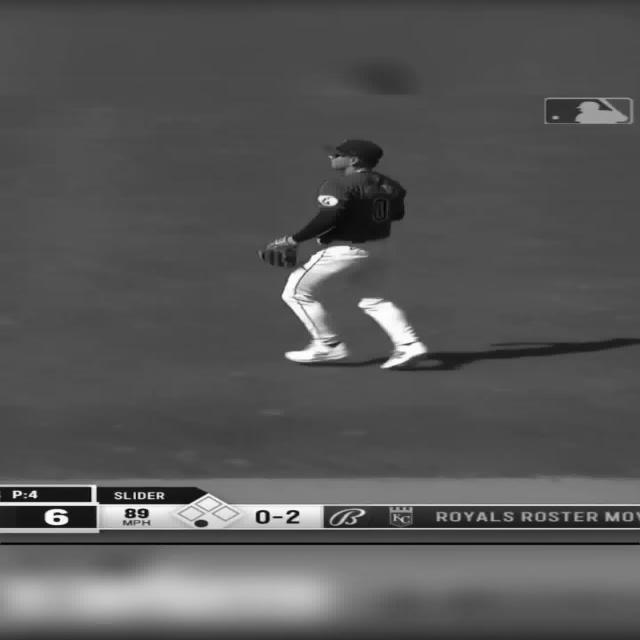baseball_glove: (258, 236, 298, 268)
shoe: (380, 341, 429, 370), (284, 342, 349, 362)
